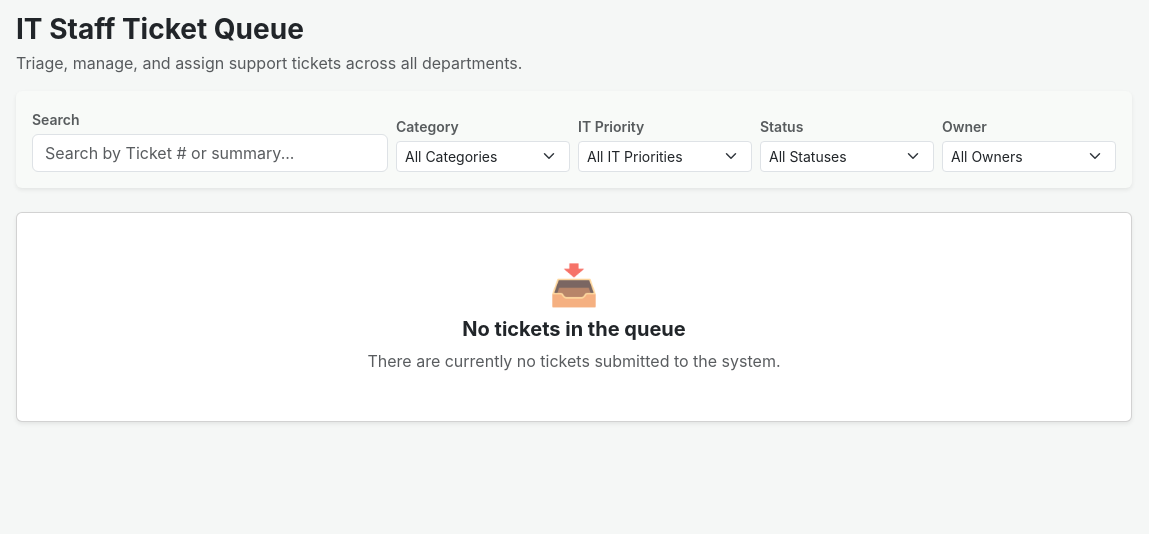
Test: StaffTicketQueue UI Tests (UI-04, UI-05) › UI-05: Queue loading, empty, and error states › shows clear-filters button when search is non-empty
Type "something" into the field with test id "queue-search-input".
click(210, 153); type("something")  # box [32,134,388,172]
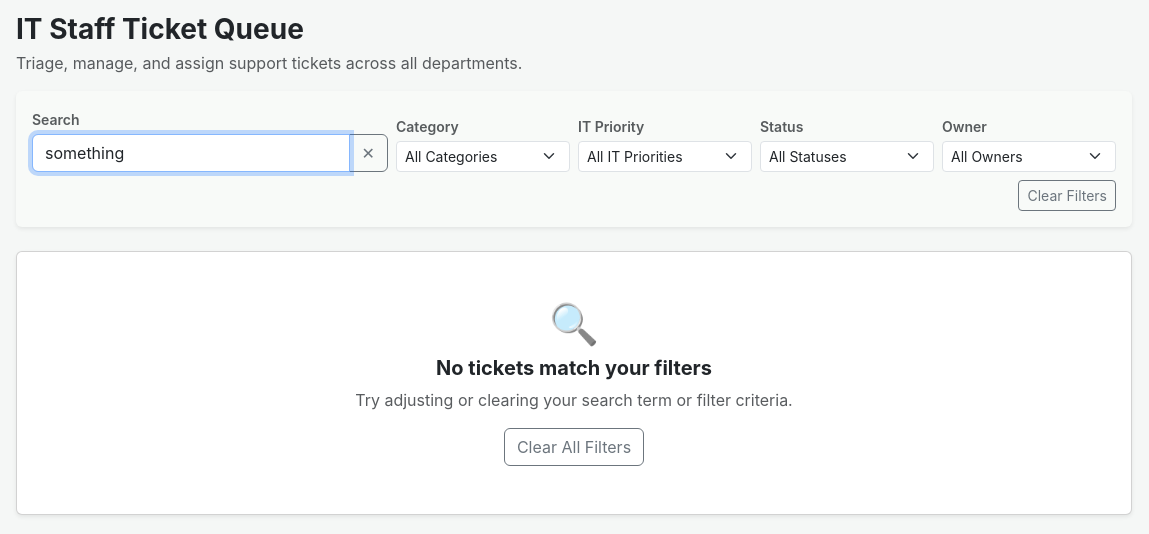
Expected: the button with test id "queue-clear-filters-btn" is shown, [1018,180,1116,211]
